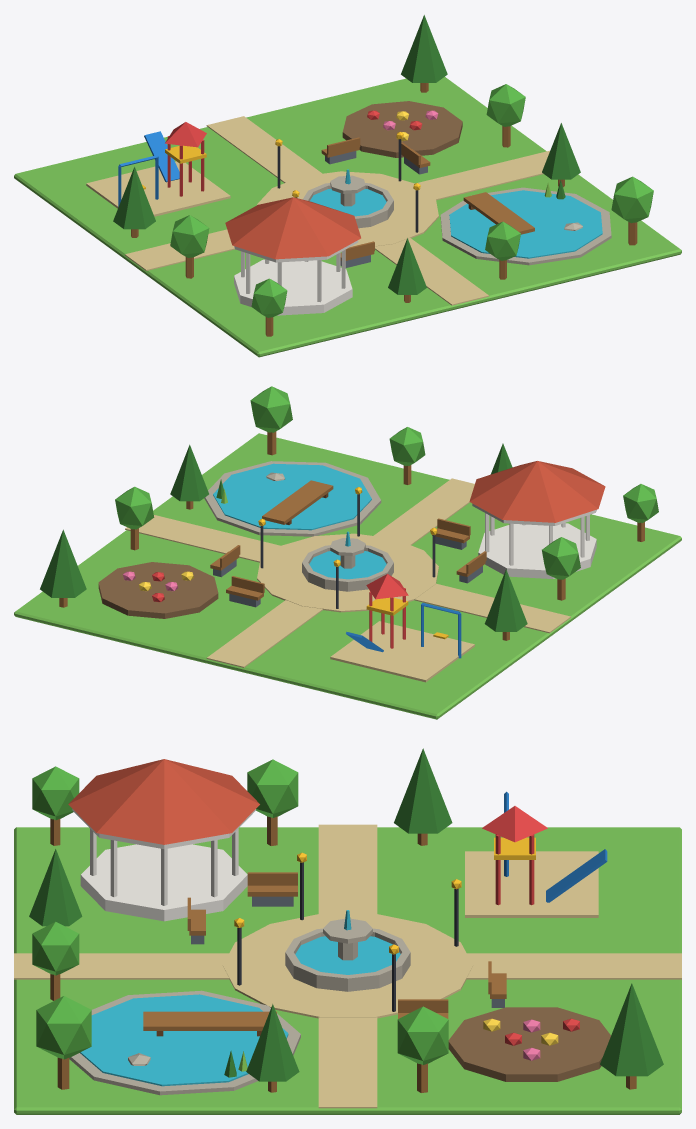
File: park.glb
3 views of the same model, one above another, from view 1: azimuth 30°, elevation 25°; view 2: azimuth 150°, elevation 25°; view 3: azimuth 270°, elevation 25° (orthographic). The views are drawn at different scales.
Parts seen in each view (by area): view 1: corpo; view 2: corpo; view 3: corpo.
Part boxes in pixels (box(x1,y1,x2,y2)): corpo: box(14, 15, 681, 357); corpo: box(14, 386, 681, 719); corpo: box(14, 748, 681, 1114).
Size of the model in its own units: 8 by 1.78 by 8.
